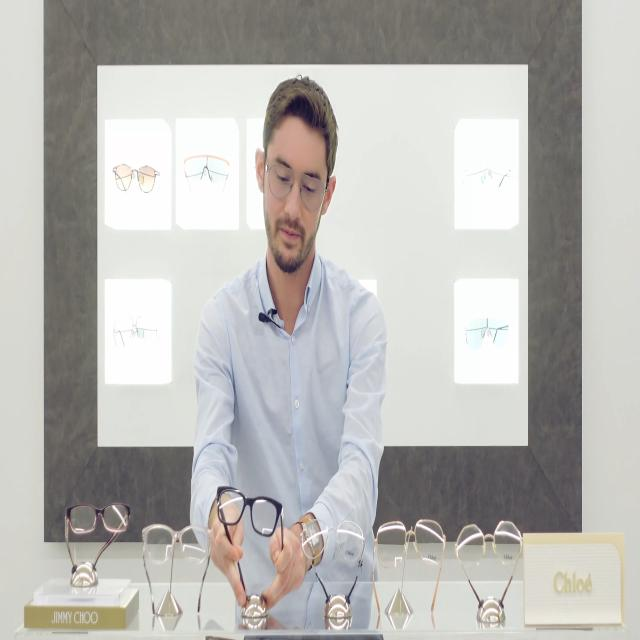dress: (190, 246, 388, 581)
glasses: (216, 481, 282, 538), (374, 517, 446, 569), (457, 518, 522, 570), (303, 511, 365, 563), (142, 521, 211, 566), (63, 502, 131, 535), (182, 151, 230, 188), (113, 160, 157, 194)
